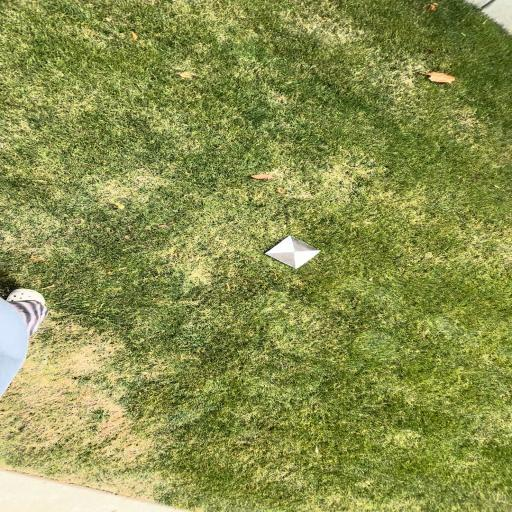target: (266, 236, 320, 269)
